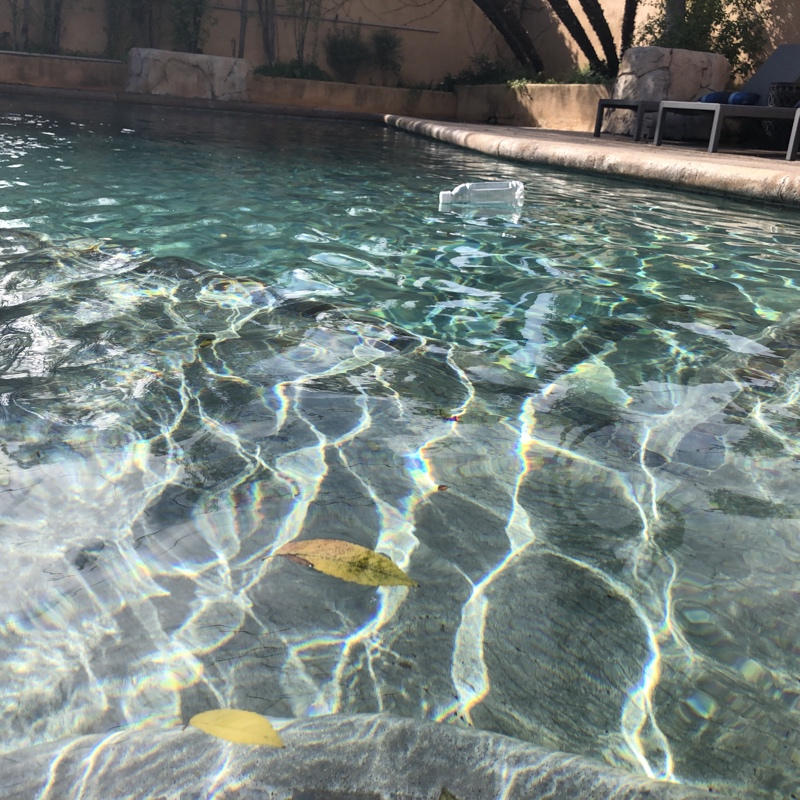Plastic Bottle: (435, 177, 526, 220)
